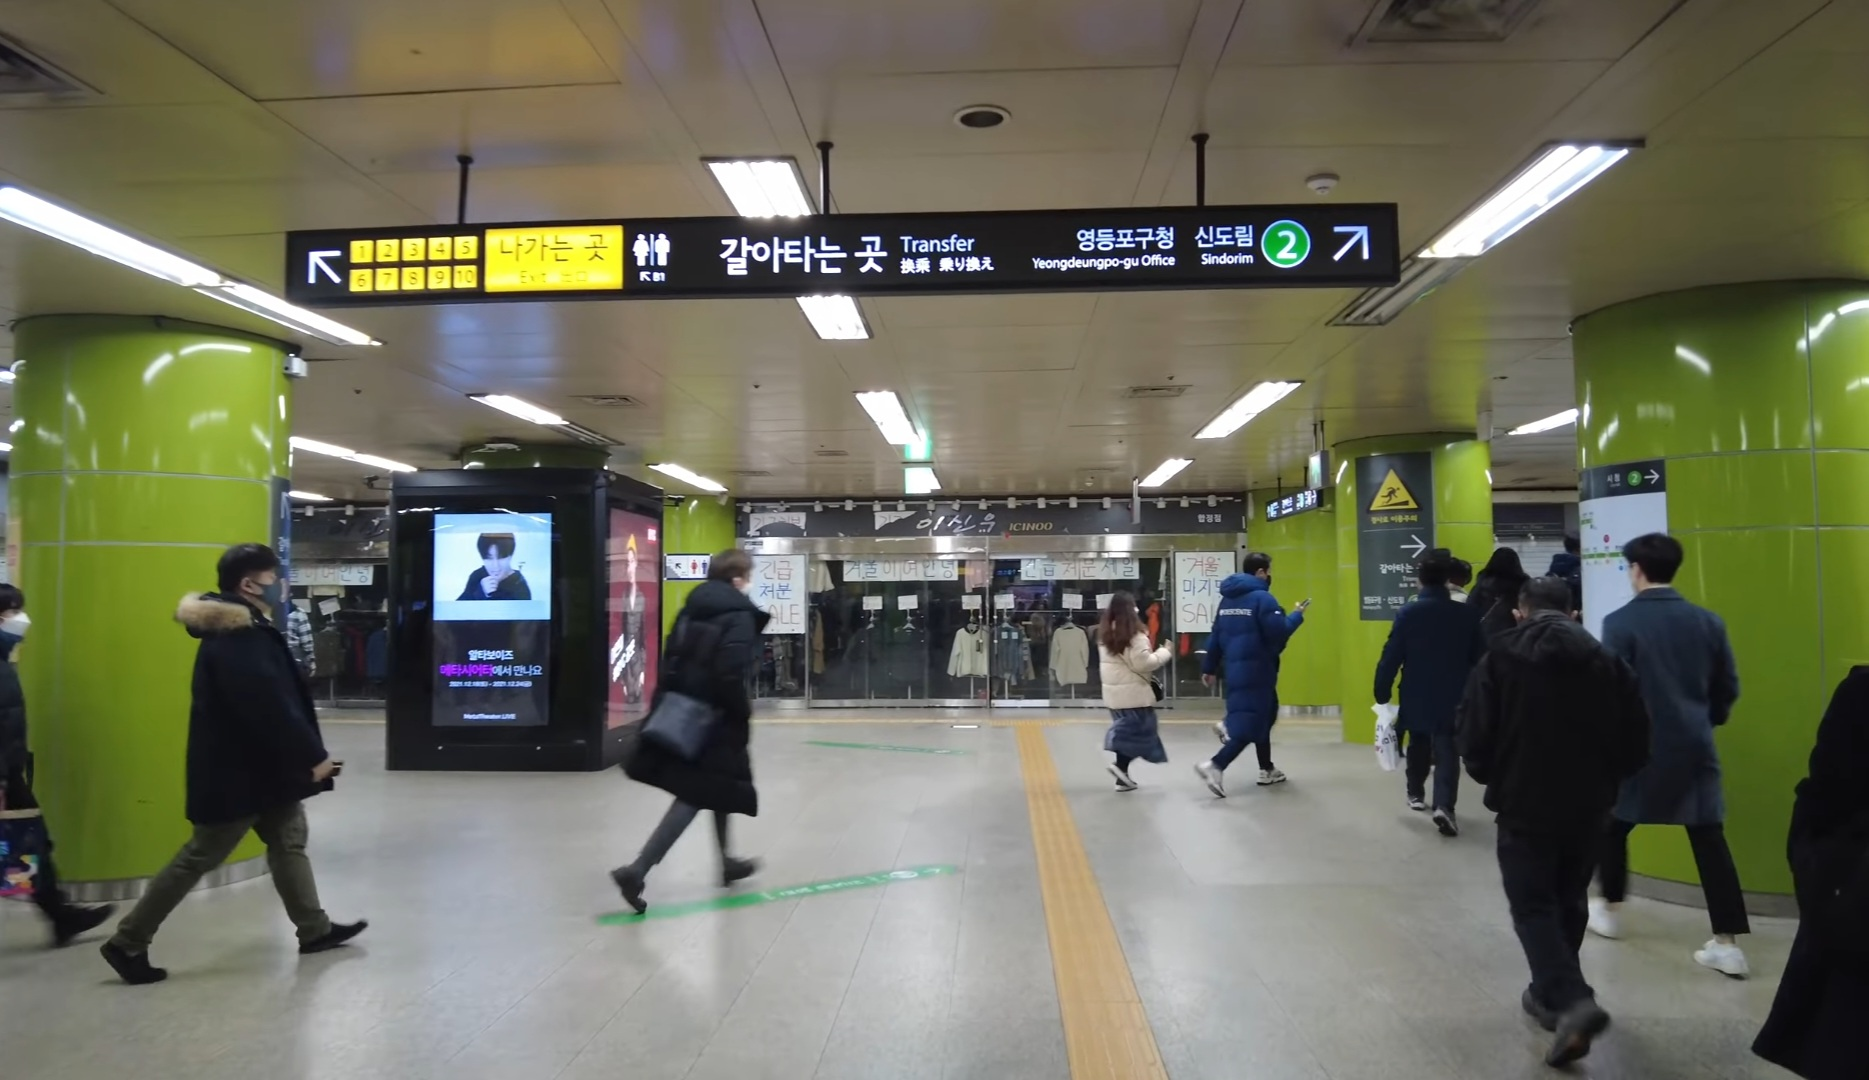signBoard: (284, 193, 1408, 315)
